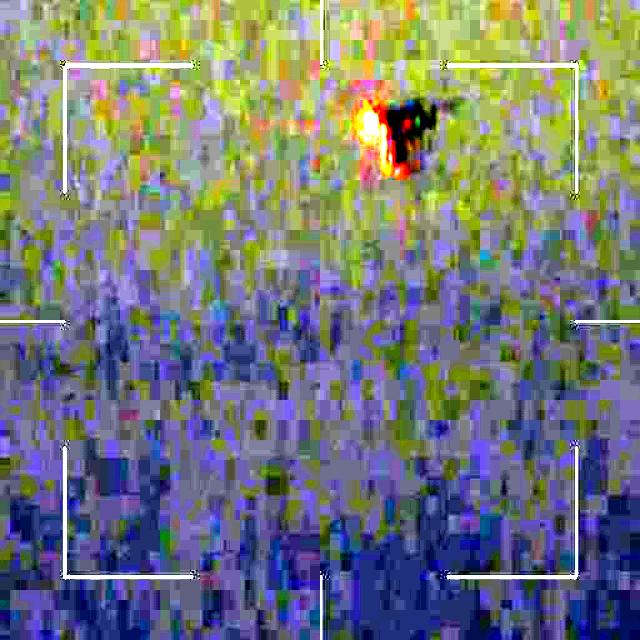bird: (356, 89, 435, 184)
